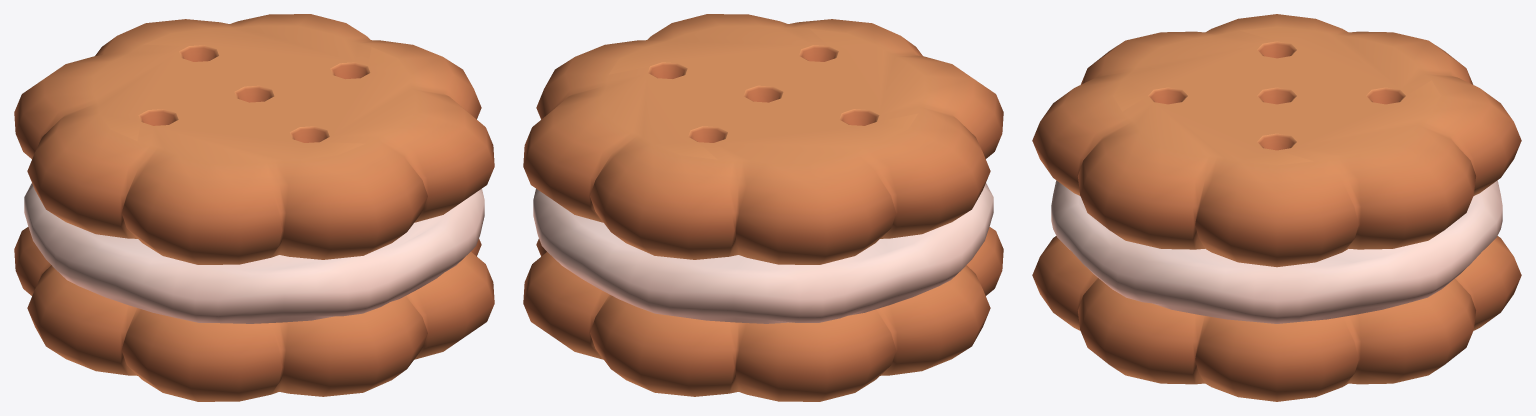
File: Biscuits_V2_01.fbx
3 views of the same model, side by side, from view 1: azimuth 30°, elevation 25°; view 2: azimuth 150°, elevation 25°; view 3: azimuth 270°, elevation 25° (orthographic).
Visible parts, largest first — view 1: Biscuits_V2_01; view 2: Biscuits_V2_01; view 3: Biscuits_V2_01.
Part boxes in pixels (x1,y1,x2,y2): Biscuits_V2_01: (14,14,494,401); Biscuits_V2_01: (523,14,1003,401); Biscuits_V2_01: (1032,14,1521,401).
Size of the model in its own units: 28.65 by 14.47 by 28.65.
